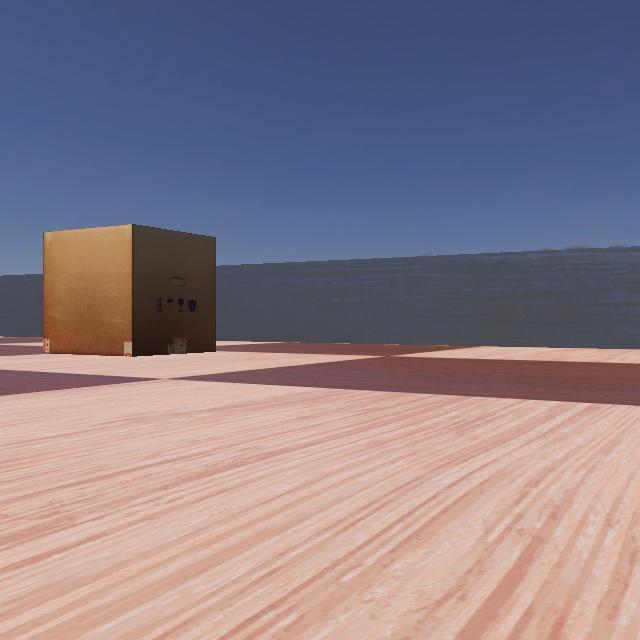cardboard-box: (17, 224, 223, 356)
